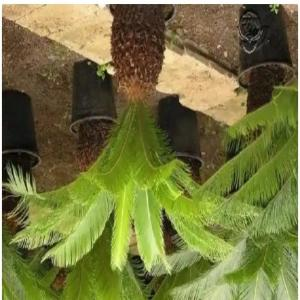palm tree: (3, 4, 298, 298)
